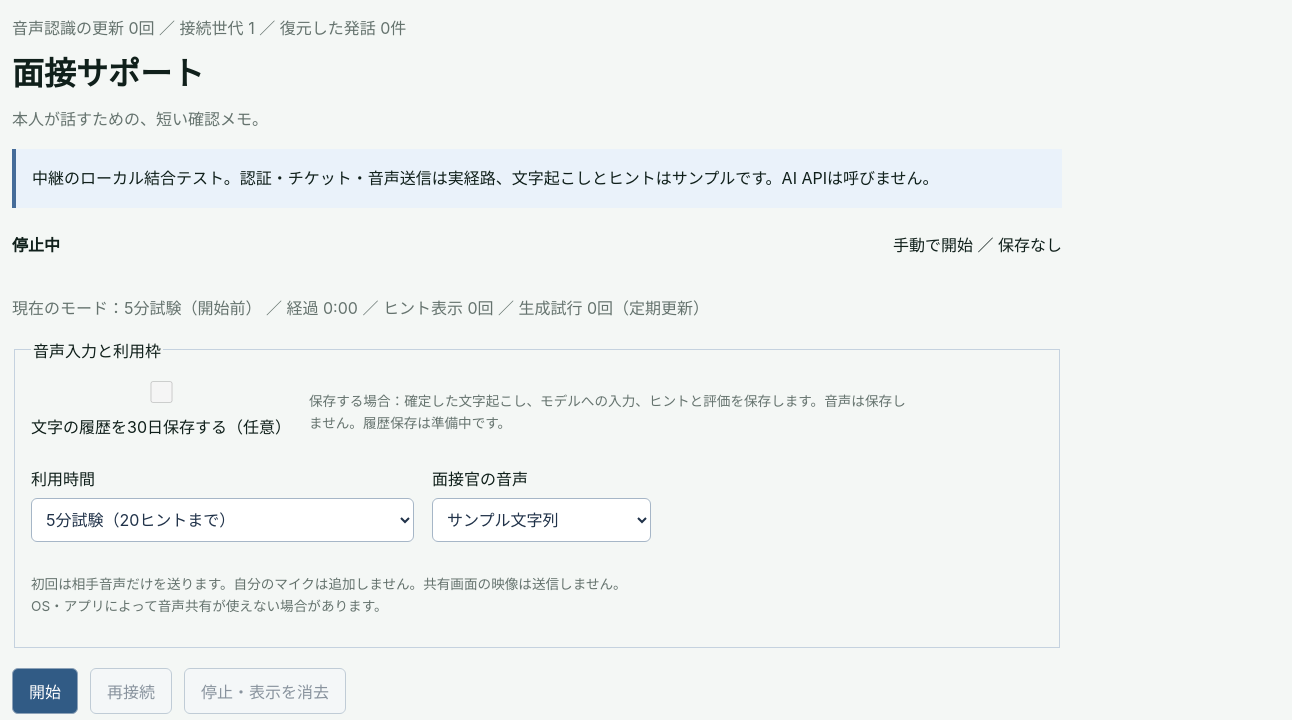
Scenario: relay panel › shows server-confirmed developer mode, elapsed time and generated hint count
Select "開発者試験（60分・本人への個別許可が必要）" in the dropdown labelled "利用時間": [222, 520] box 31,498 -> 414,542
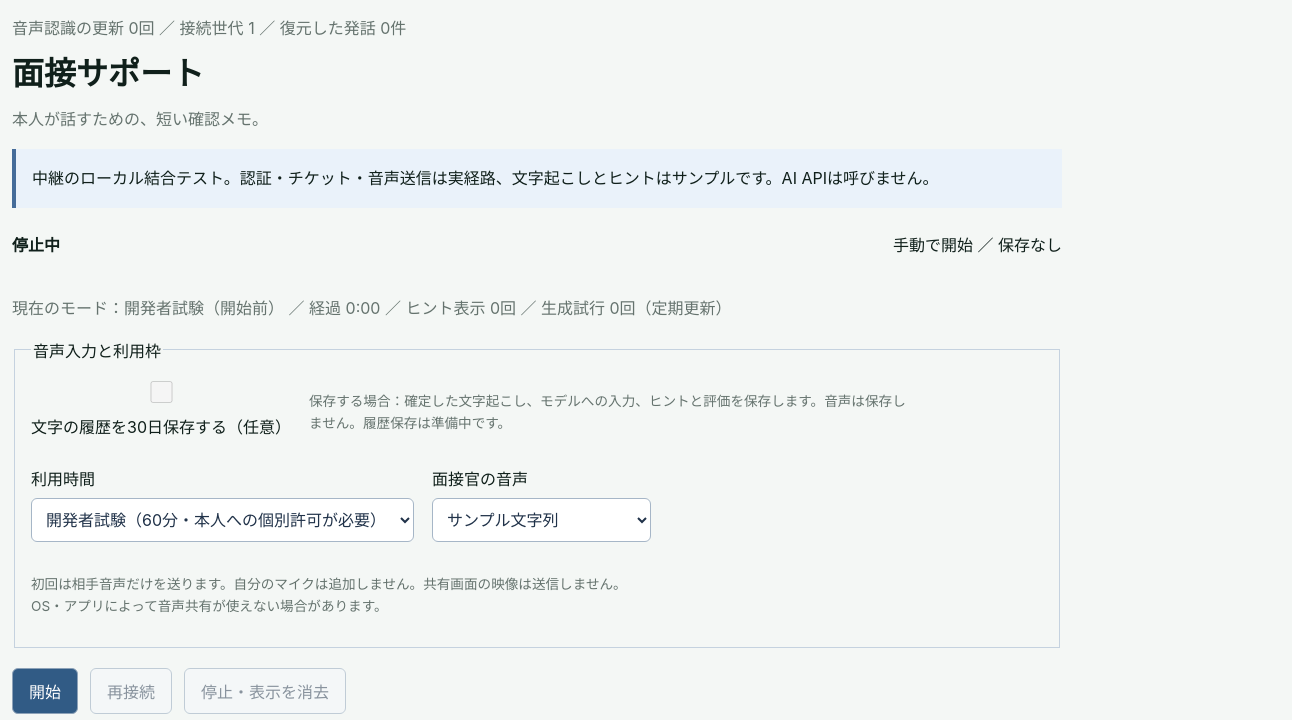
expect the text named "利用モードと使用状況" shows "開発者試験（開始前）": met, box 124,298 -> 284,318
Click the button "開始": [45, 691] box 12,668 -> 78,714
(page scrolled)
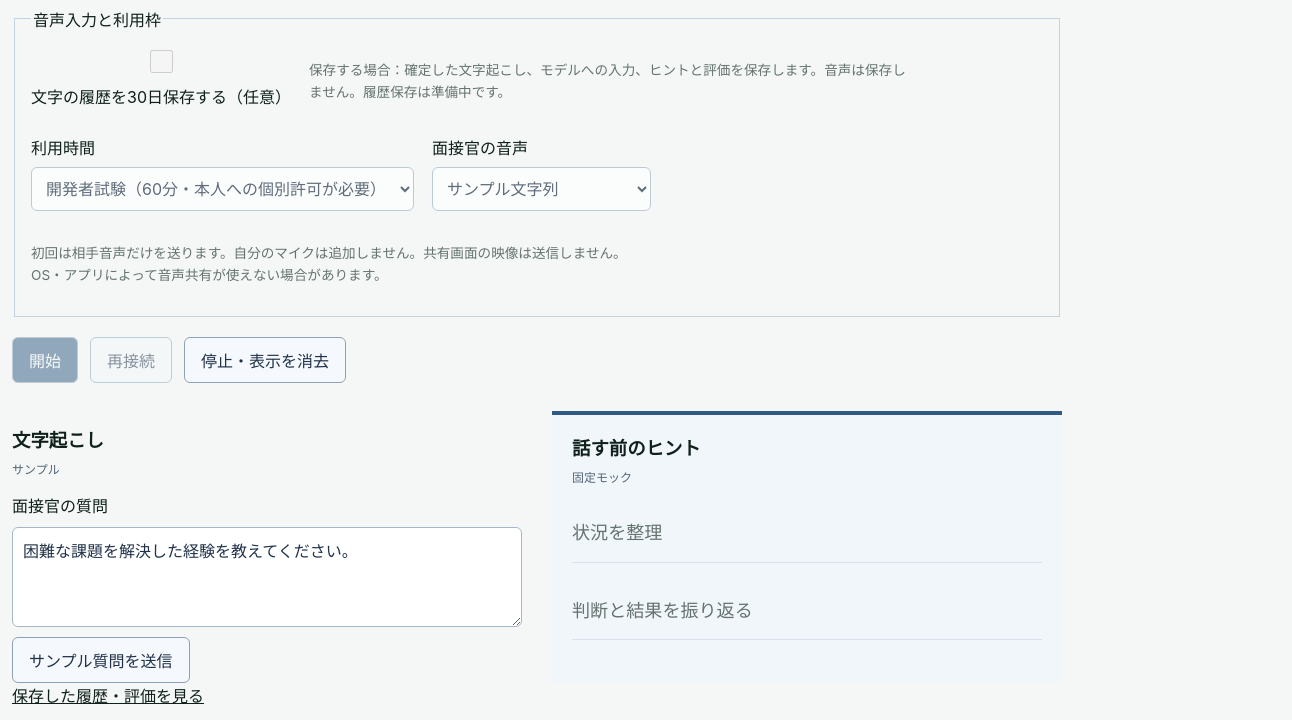
Click the button "停止・表示を消去": [265, 360] box 184,337 -> 346,383
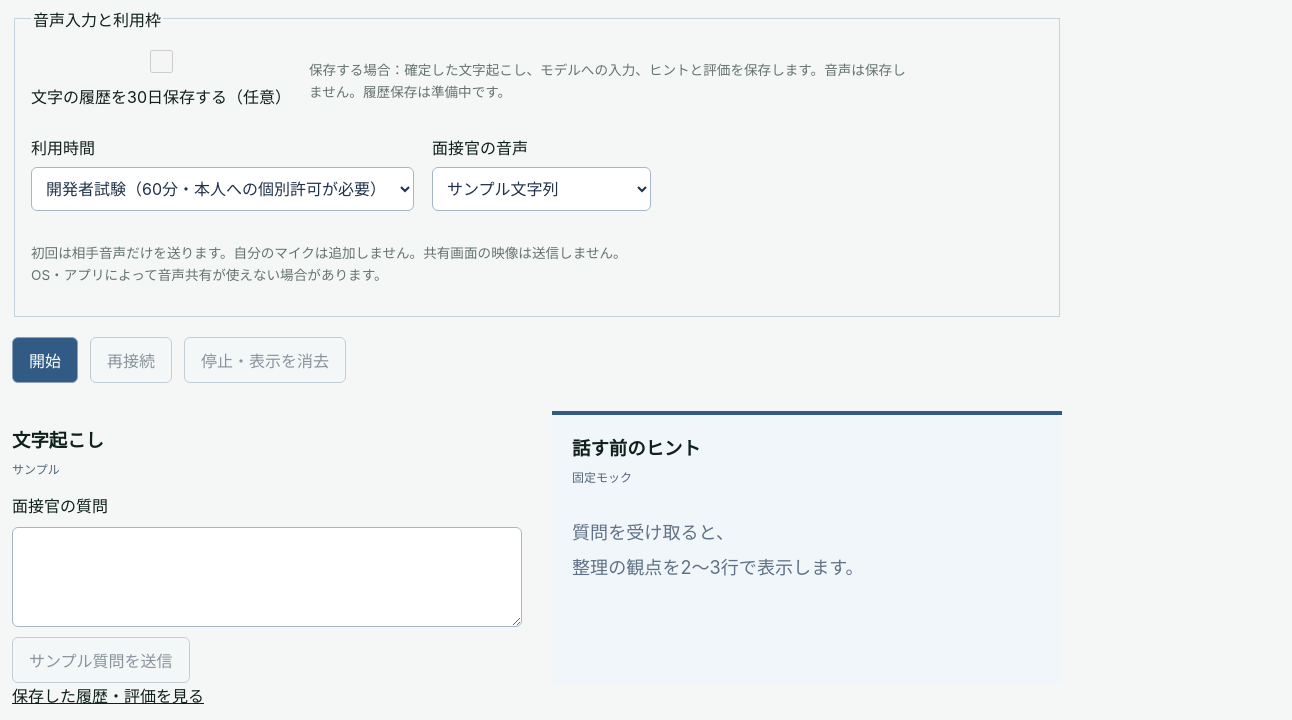
expect the text "状況を整理" is gone: met
